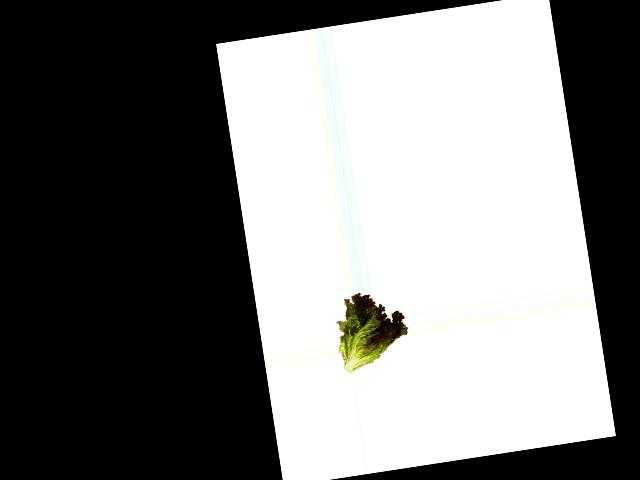lettuce: (332, 286, 411, 372)
